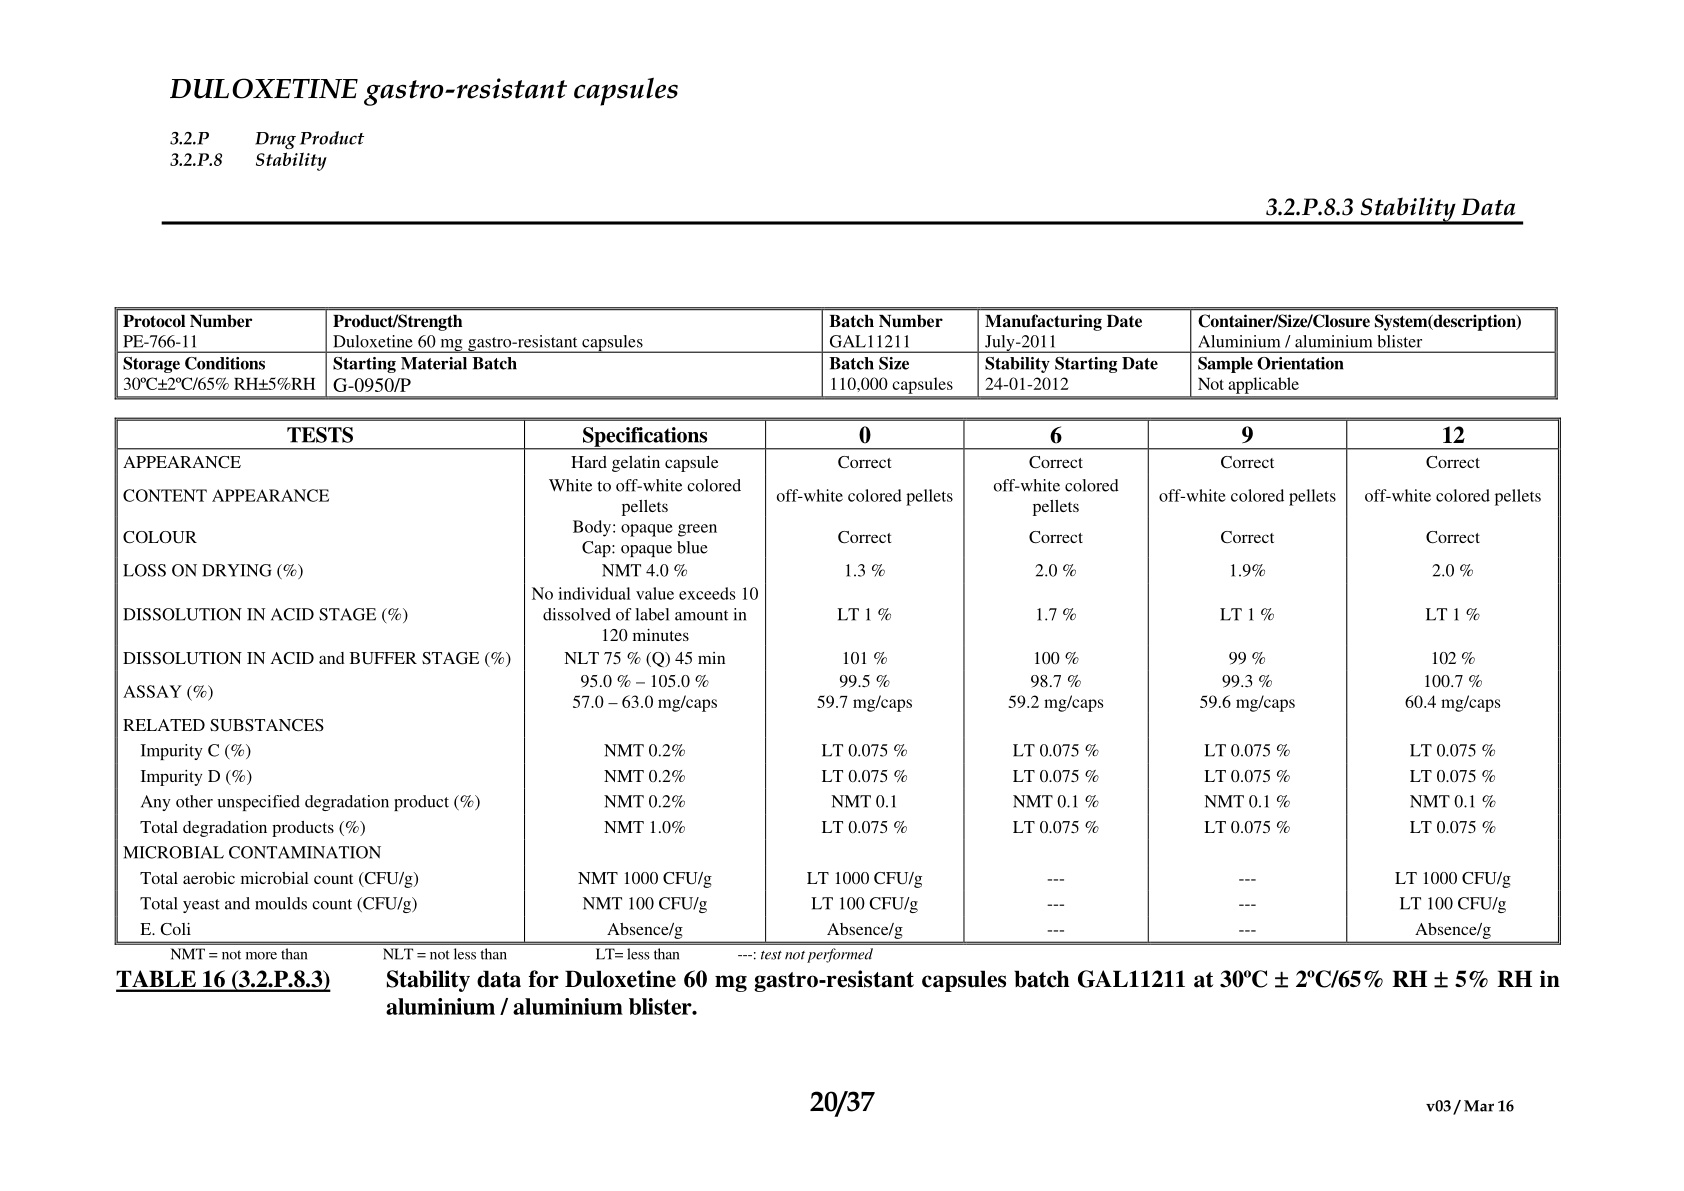full_lined: (113, 305, 1558, 400)
partial_lined: (113, 418, 1562, 945)
